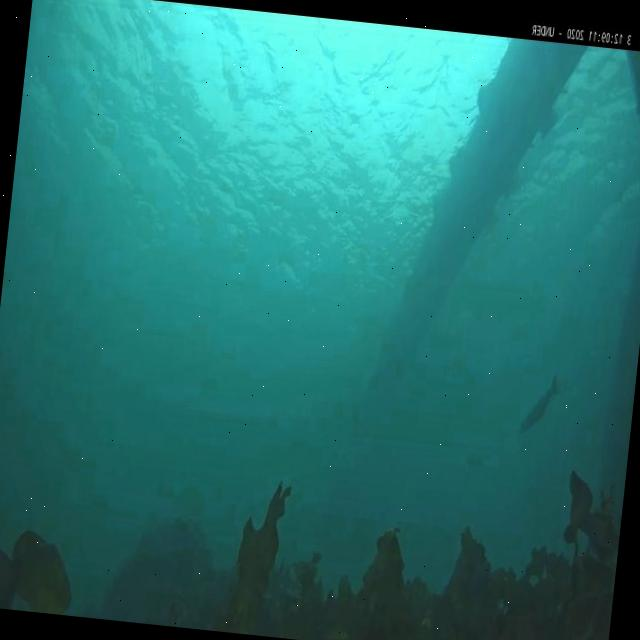fish: (517, 370, 560, 438)
